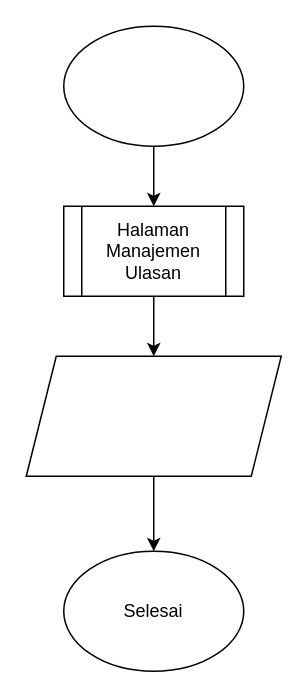
Some shapes in this 308 by 698 pixel diagram are drawn without their labels. The centre of each missing label's shape, as x and y in pixels:
"Input 1. Nama Pemberi Ulasan 2. Tipe 3. Penilaian 4. Komentar" goes at (153,415).
"Mulai" goes at (153,85).
